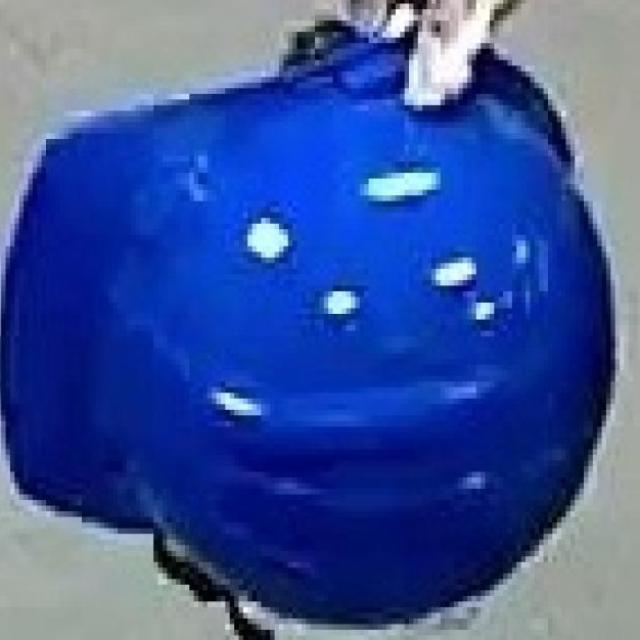helmet: (0, 7, 616, 629)
